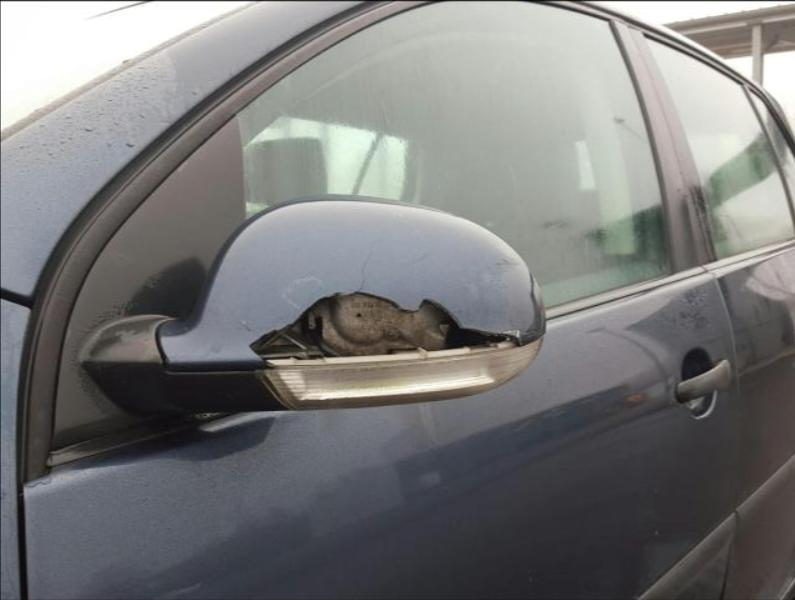Broken part: (83, 194, 550, 416)
